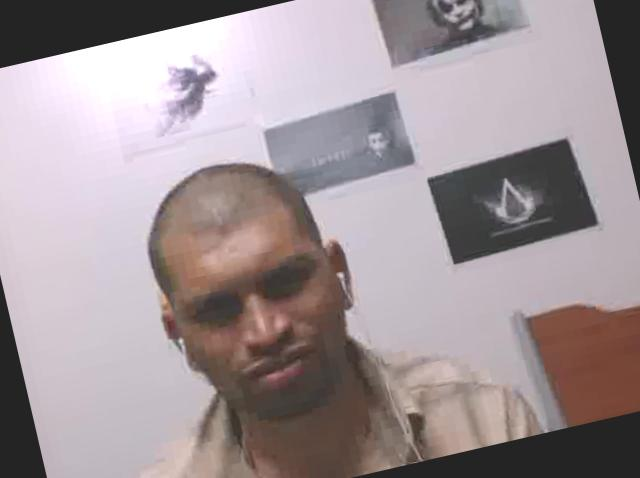bingung: (152, 198, 358, 433)
